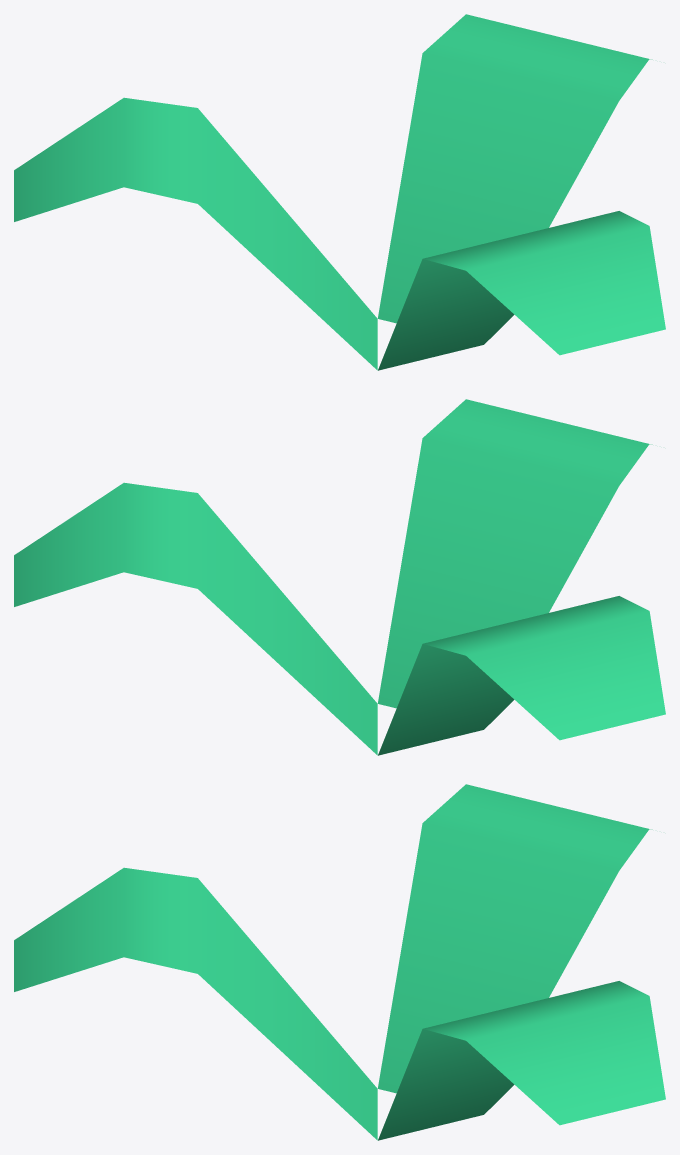
Rendered from plant.glb.
3 renders of one model, top to bottom at view 1: azimuth 30°, elevation 25°; view 2: azimuth 150°, elevation 25°; view 3: azimuth 270°, elevation 25°, orthographic.
Visible parts, largest first — view 1: plant; view 2: plant; view 3: plant.
Part boxes in pixels (x1,y1,x2,y2): plant: (14, 14, 665, 370); plant: (14, 399, 665, 755); plant: (14, 784, 665, 1140).
Size of the model in its own units: 0.5514 by 0.1635 by 0.4775.
